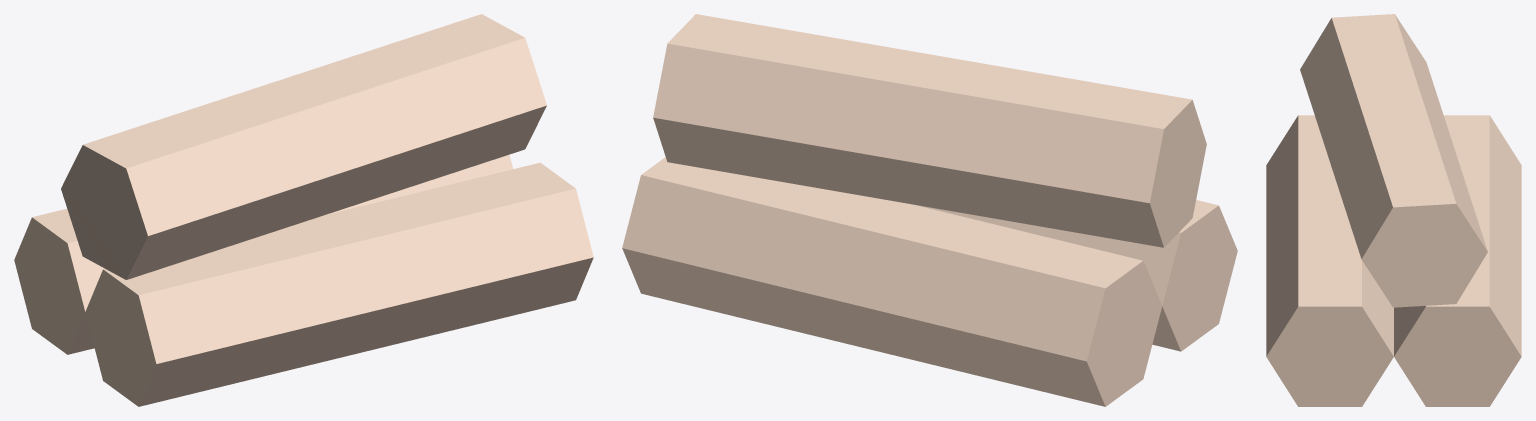
Rendered from logs_stack.fbx.
3 views of the same model, side by side, from view 1: azimuth 30°, elevation 25°; view 2: azimuth 150°, elevation 25°; view 3: azimuth 270°, elevation 25° (orthographic). The views are drawn at different scales.
Visible parts, largest first — view 1: logs_stack; view 2: logs_stack; view 3: logs_stack.
Part boxes in pixels (x1,y1,x2,y2): logs_stack: [14, 14, 593, 406]; logs_stack: [622, 14, 1237, 406]; logs_stack: [1266, 14, 1521, 406].
Bounding box in the file's own units: 219 × 104 × 120.
